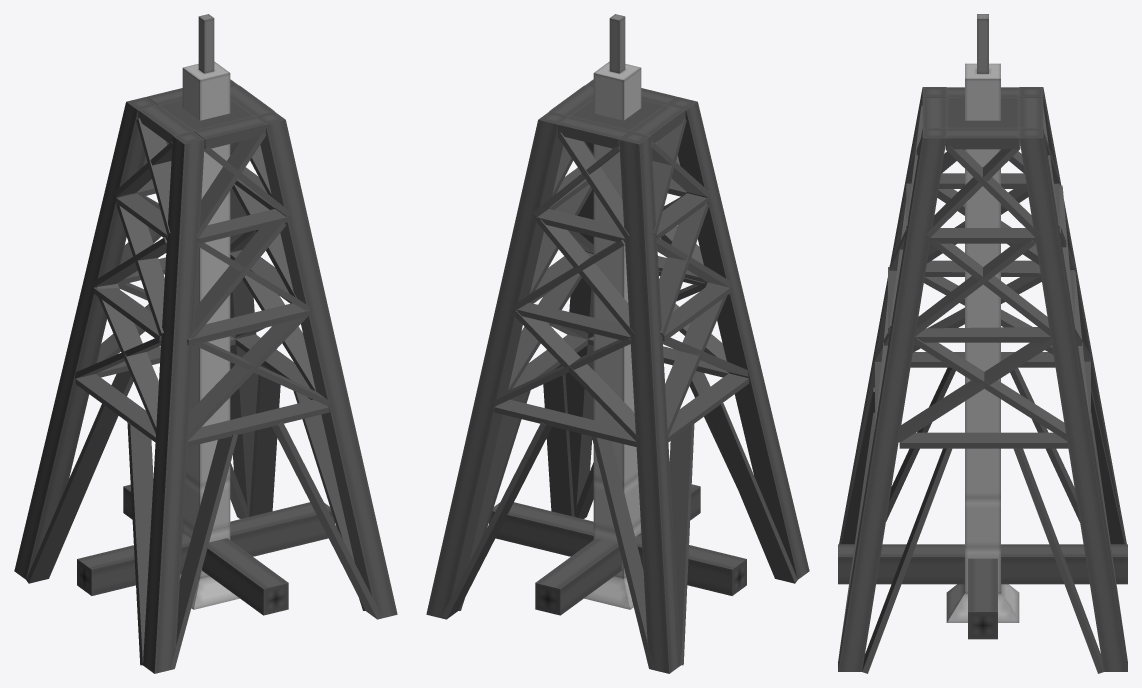
The model's file is oil_derrick.obj.
The picture shows the model from 3 angles, left to right: view 1: azimuth 30°, elevation 25°; view 2: azimuth 150°, elevation 25°; view 3: azimuth 270°, elevation 25°; orthographic projection. The views are drawn at different scales.
Visible parts, largest first — view 1: cube; view 2: cube; view 3: cube.
Part boxes in pixels (<box>): cube: <box>14,14,397,673</box>; cube: <box>426,14,809,673</box>; cube: <box>838,14,1127,673</box>.
Bounding box in the file's own units: 3 × 6.81 × 3.
